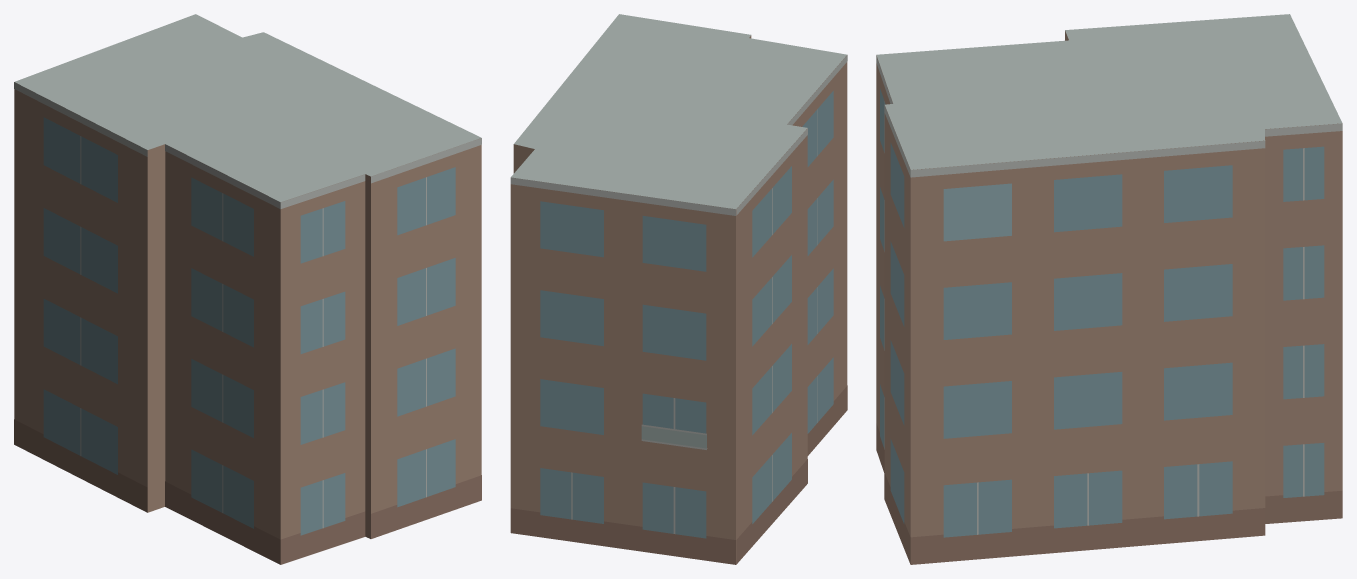
Rendered from survey-upis-32937268.glb.
The picture shows the model from 3 angles, left to right: view 1: azimuth 30°, elevation 25°; view 2: azimuth 150°, elevation 25°; view 3: azimuth 270°, elevation 25°; orthographic projection. The views are drawn at different scales.
Parts seen in each view (by area): view 1: survey-upis-32937268.tmp; view 2: survey-upis-32937268.tmp; view 3: survey-upis-32937268.tmp.
Part boxes in pixels (<box>): survey-upis-32937268.tmp: <box>14,14,481,564</box>; survey-upis-32937268.tmp: <box>510,14,847,564</box>; survey-upis-32937268.tmp: <box>876,14,1342,564</box>.
Bounding box in the file's own units: 10.77 × 12.7 × 13.6.
